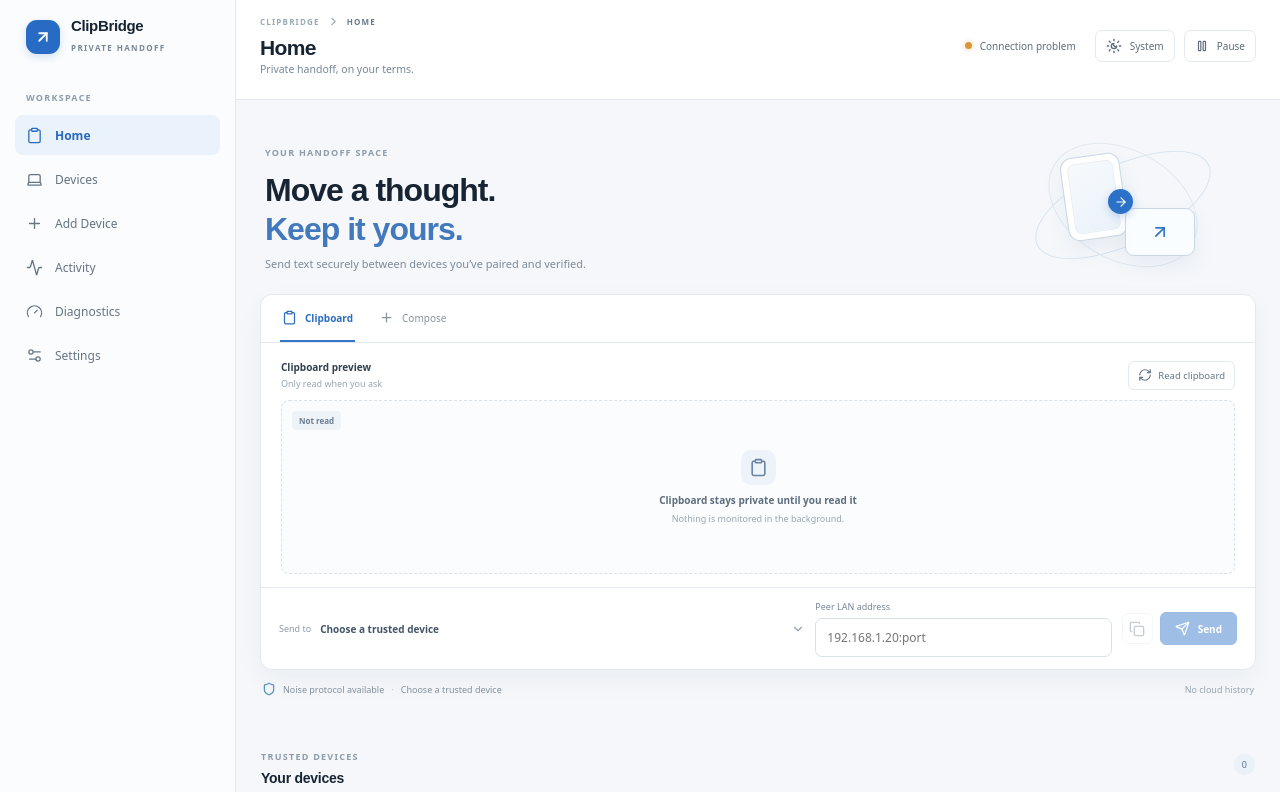
Test: desktop foundation › shows repair guidance after a final-window pairing failure
The width and height of the screenshot is (1280, 792).
Click the button "Add Device".
click(118, 223)  # box x1=15 y1=203 x2=220 y2=243
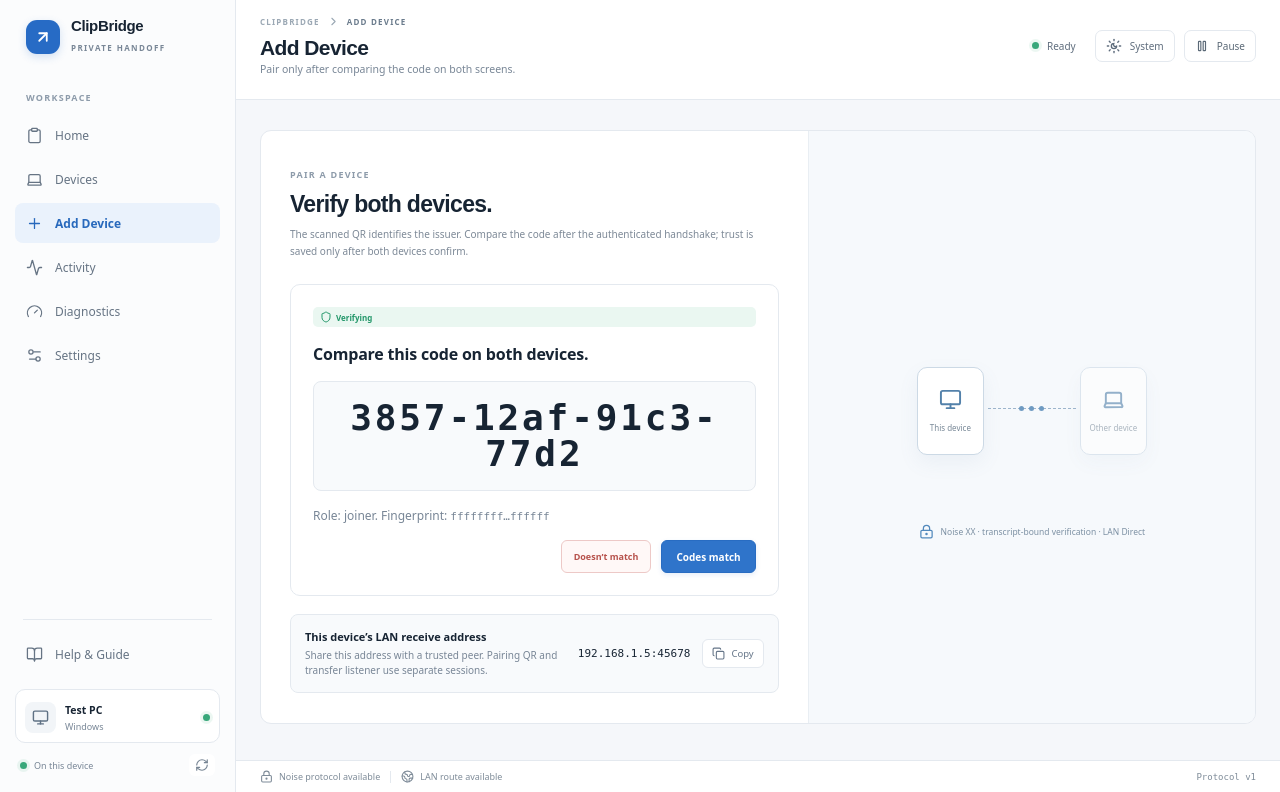
Click the button "Codes match".
click(709, 556)  # box x1=661 y1=540 x2=756 y2=573
(page scrolled)
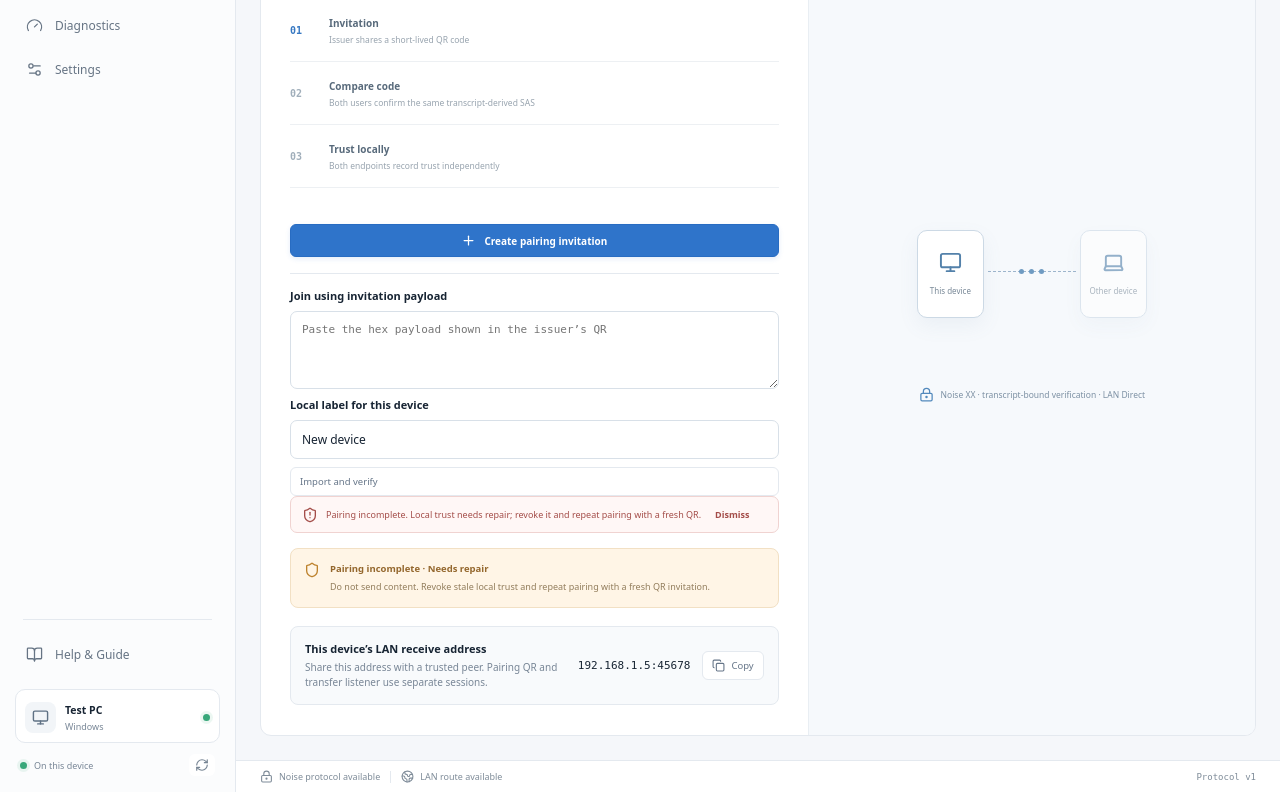
Expected: the text "Pairing incomplete · Needs repair" is shown, x1=330 y1=562 x2=488 y2=575
